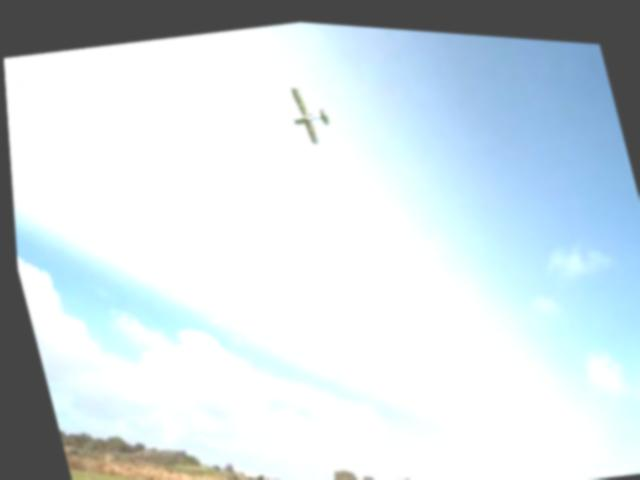uav: (275, 66, 341, 151)
